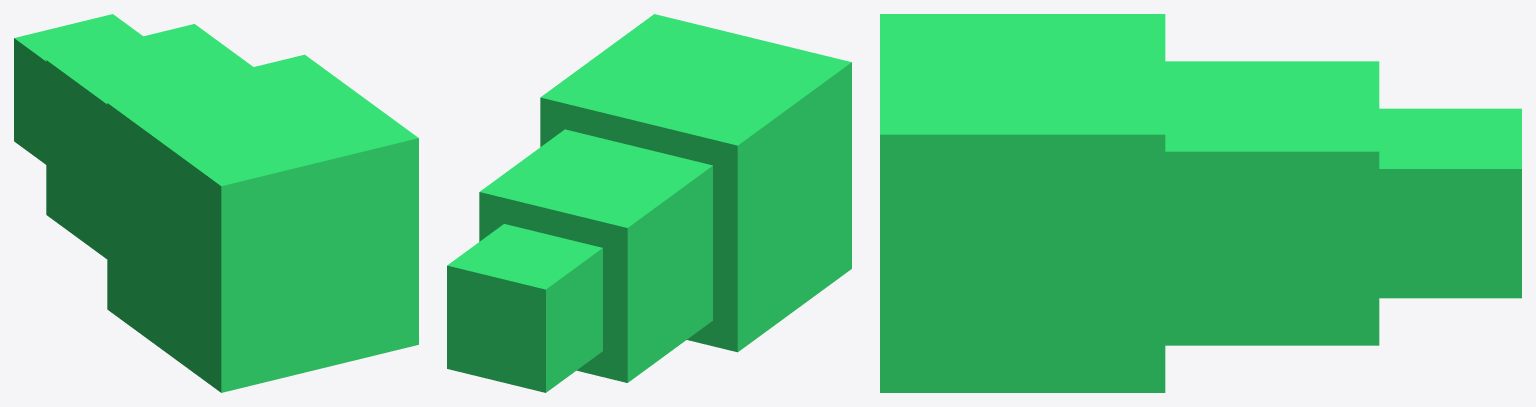
Rendered from AlienFlameA.fbx.
The picture shows the model from 3 angles, left to right: view 1: azimuth 30°, elevation 25°; view 2: azimuth 150°, elevation 25°; view 3: azimuth 270°, elevation 25°; orthographic projection. The views are drawn at different scales.
Parts seen in each view (by area): view 1: Cube.008, Cube.001, Cube.002; view 2: Cube.008, Cube.001, Cube.002; view 3: Cube.008, Cube.001, Cube.002.
Boxes of the visible parts, <box> form: Cube.008: <box>107,54,418,392</box>; Cube.001: <box>46,24,252,258</box>; Cube.002: <box>14,14,142,164</box>; Cube.008: <box>540,14,851,352</box>; Cube.001: <box>479,129,712,382</box>; Cube.002: <box>447,224,602,392</box>; Cube.008: <box>880,14,1165,392</box>; Cube.001: <box>1165,61,1379,345</box>; Cube.002: <box>1379,108,1521,298</box>.
Bounding box in the file's own units: 80 × 80 × 180.
